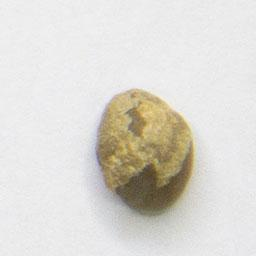premium: (93, 83, 197, 219)
